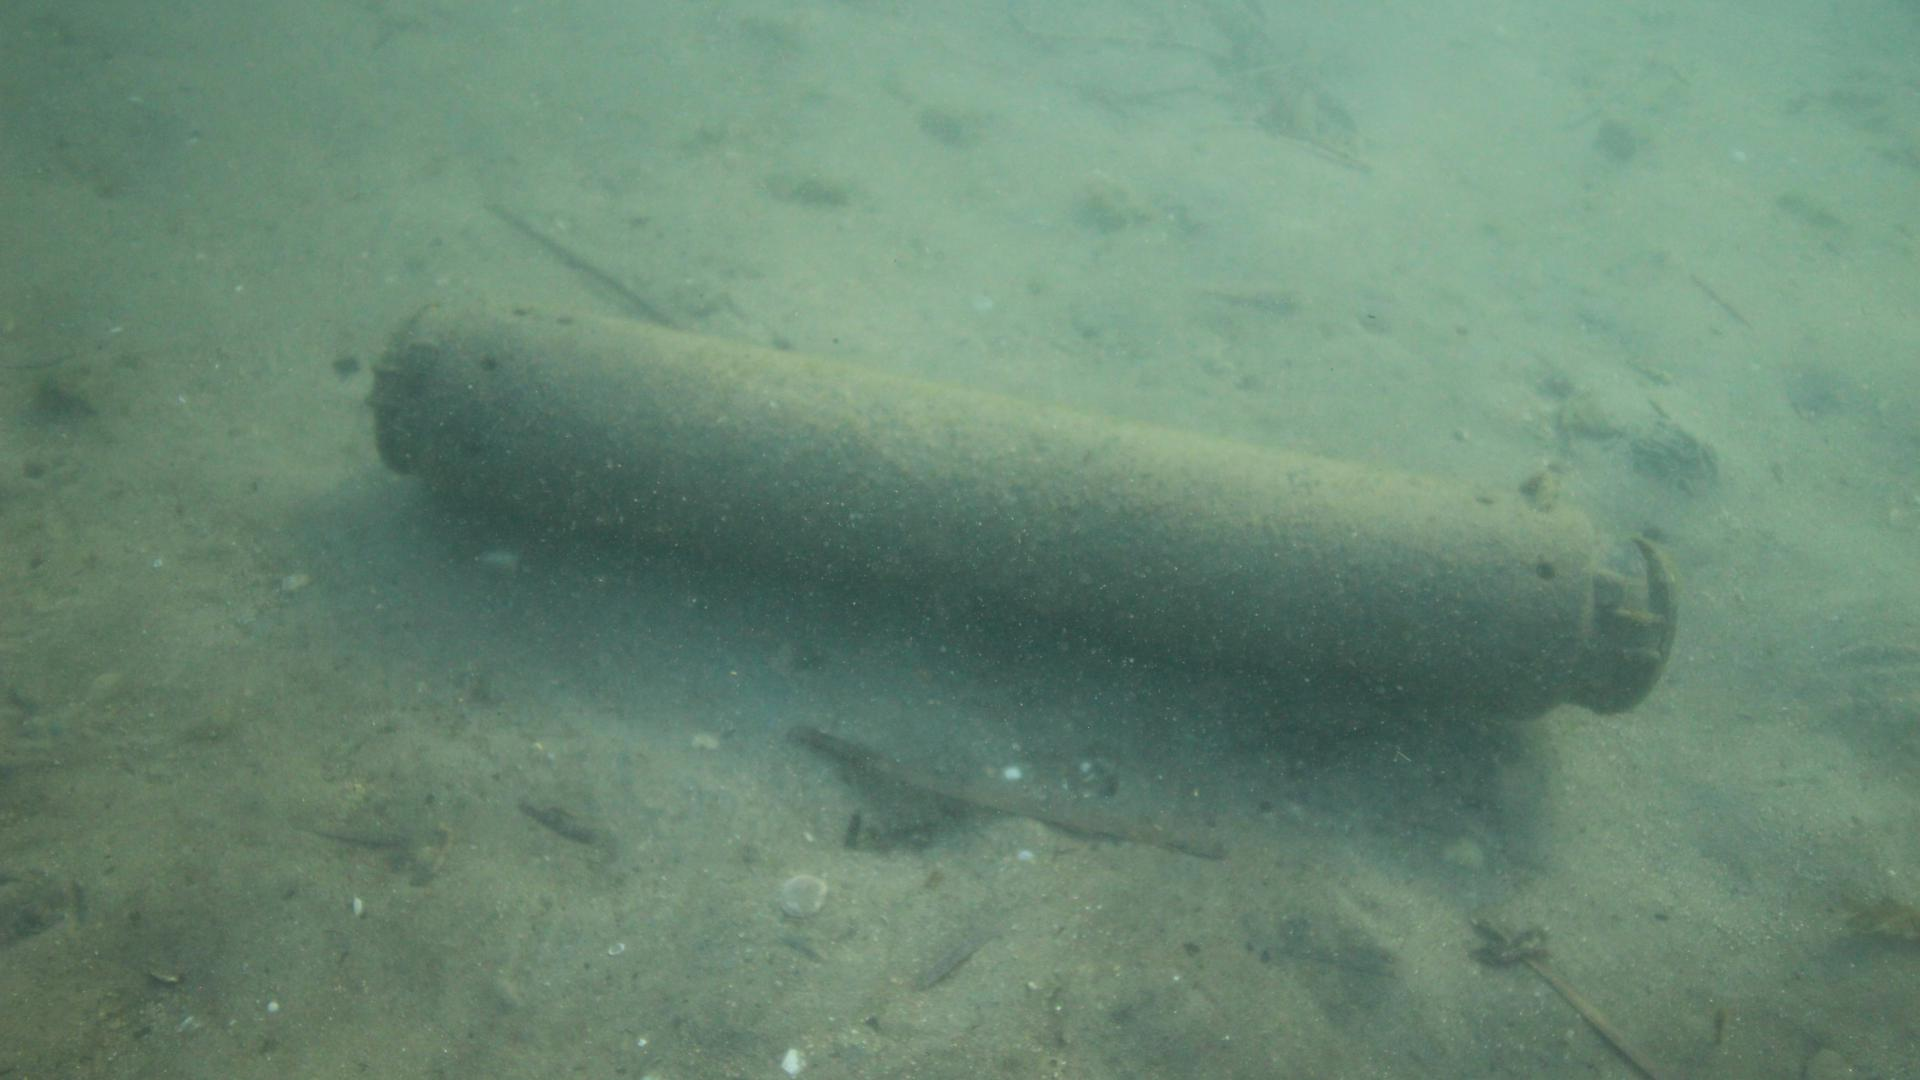eel fish trap: (372, 290, 1671, 712)
